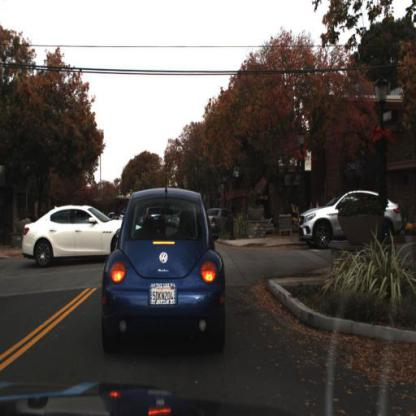car: (100, 177, 230, 355), (20, 202, 127, 270), (296, 190, 404, 248), (204, 205, 234, 235)
